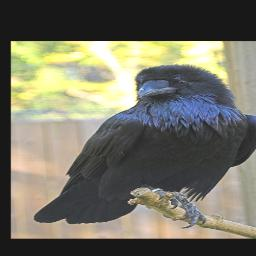Crow: (35, 63, 256, 229)
